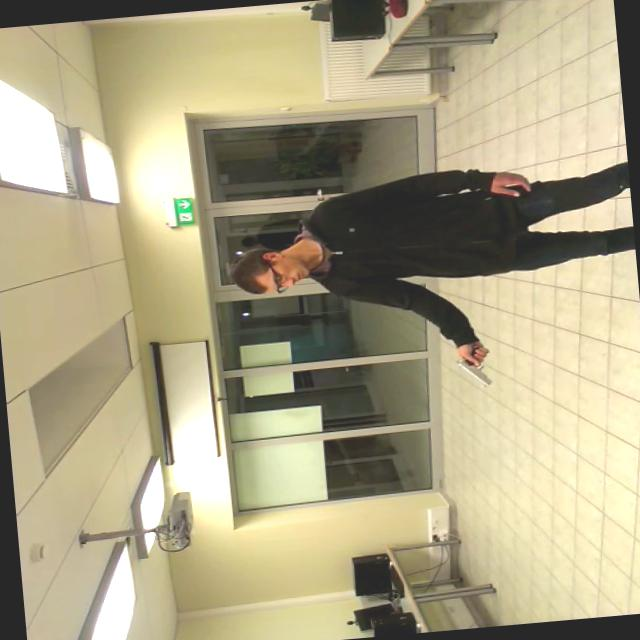handgun: (443, 330, 508, 391)
